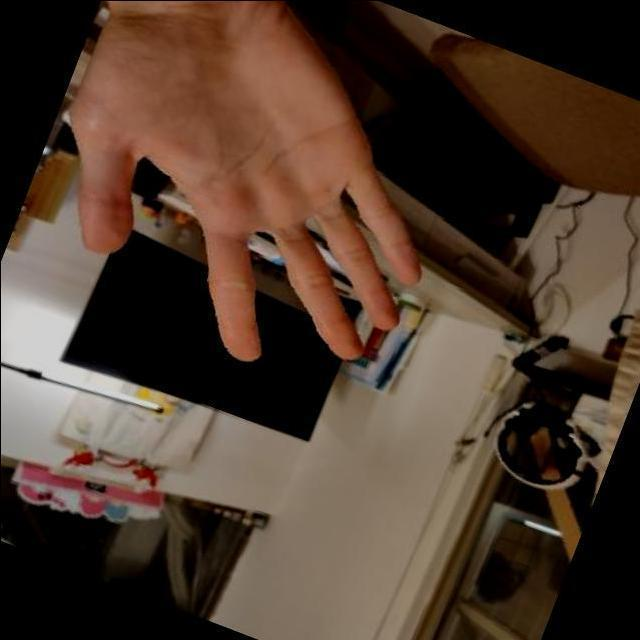Hand: (61, 0, 429, 365)
